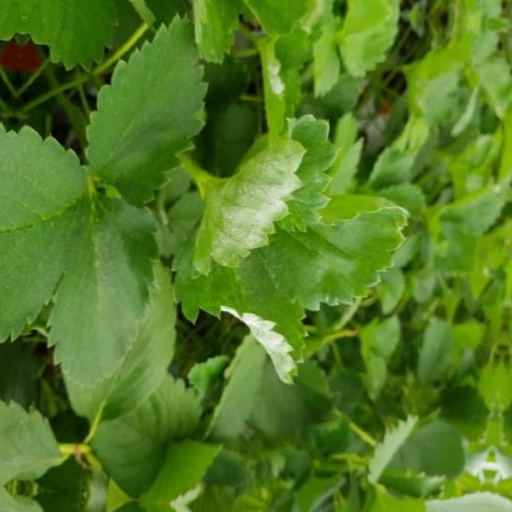Powdery Mildew Leaf: (192, 230, 329, 405), (172, 132, 318, 290), (234, 365, 288, 490)
